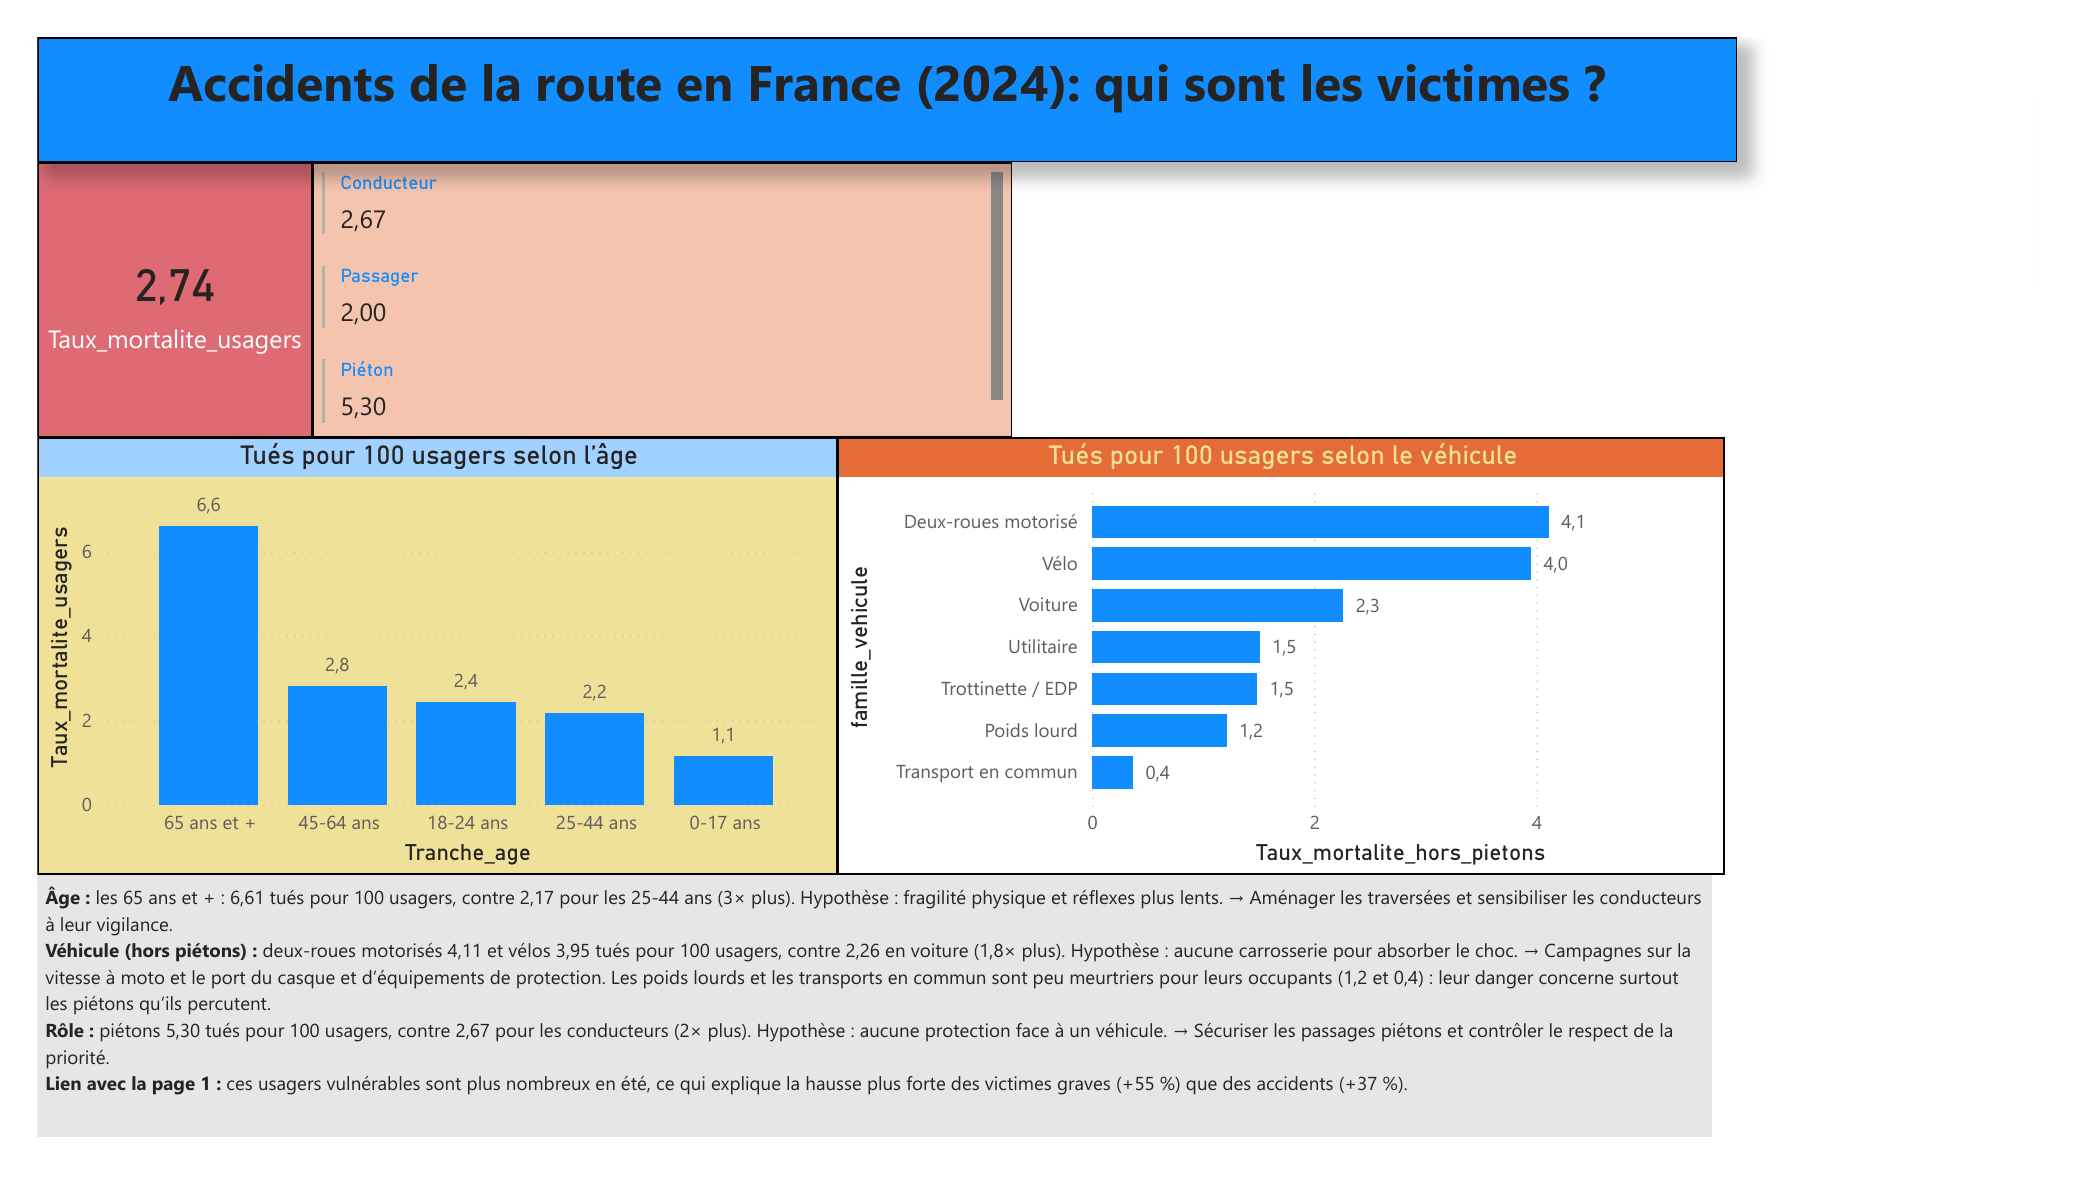

The page's visual inventory and layout, read from the dashboard file:
{"tool":"powerbi","page":{"name":"Qui sont les victimes","canvas":[1280,720],"ordinal":2},"visuals":[{"type":"actionButton","box":[0,0,100,40],"z":0},{"type":"card","fields":{"Values":["_Mesures.Taux_mortalite_usagers"]},"box":[0,80,176,176],"z":1000},{"type":"clusteredColumnChart","title":"Tués pour 100 usagers selon l’âge","fields":{"Category":["usagers.Tranche_age"],"Y":["_Mesures.Taux_mortalite_usagers"]},"box":[0,256,624,320],"z":2000},{"type":"clusteredBarChart","title":"Tués pour 100 usagers selon le véhicule","fields":{"Category":["vehicules.famille_vehicule"],"Y":["_Mesures.Taux_mortalite_usagers"]},"box":[624,256,640,320],"z":3000},{"type":"multiRowCard","fields":{"Values":["usagers.categorie_usager","_Mesures.Taux_mortalite_usagers"]},"box":[176,80,448,176],"z":4000},{"type":"textbox","box":[16,576,1248,144],"z":5000},{"type":"textbox","box":[0,0,1280,80],"z":5001}]}

Visuals, with their boxes on the page's 1280x720 design canvas (x1, y1, x2, y2). These are canvas units, not pixel positions in the 2075x1200 screenshot, which may show the page scaled, cropped or inside an application window:
actionButton: (left=0, top=0, right=100, bottom=40)
card - _Mesures.Taux_mortalite_usagers: (left=0, top=80, right=176, bottom=256)
"Tués pour 100 usagers selon l’âge" clusteredColumnChart: (left=0, top=256, right=624, bottom=576)
"Tués pour 100 usagers selon le véhicule" clusteredBarChart: (left=624, top=256, right=1264, bottom=576)
multiRowCard - usagers.categorie_usager x _Mesures.Taux_mortalite_usagers: (left=176, top=80, right=624, bottom=256)
textbox: (left=16, top=576, right=1264, bottom=720)
textbox: (left=0, top=0, right=1280, bottom=80)
